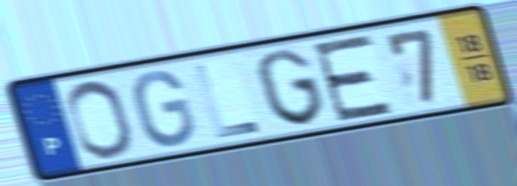7: (382, 25, 436, 108)
E: (309, 31, 397, 125)
G: (254, 46, 329, 129), (131, 68, 199, 150)
L: (190, 61, 264, 141)
O: (63, 77, 138, 161)
